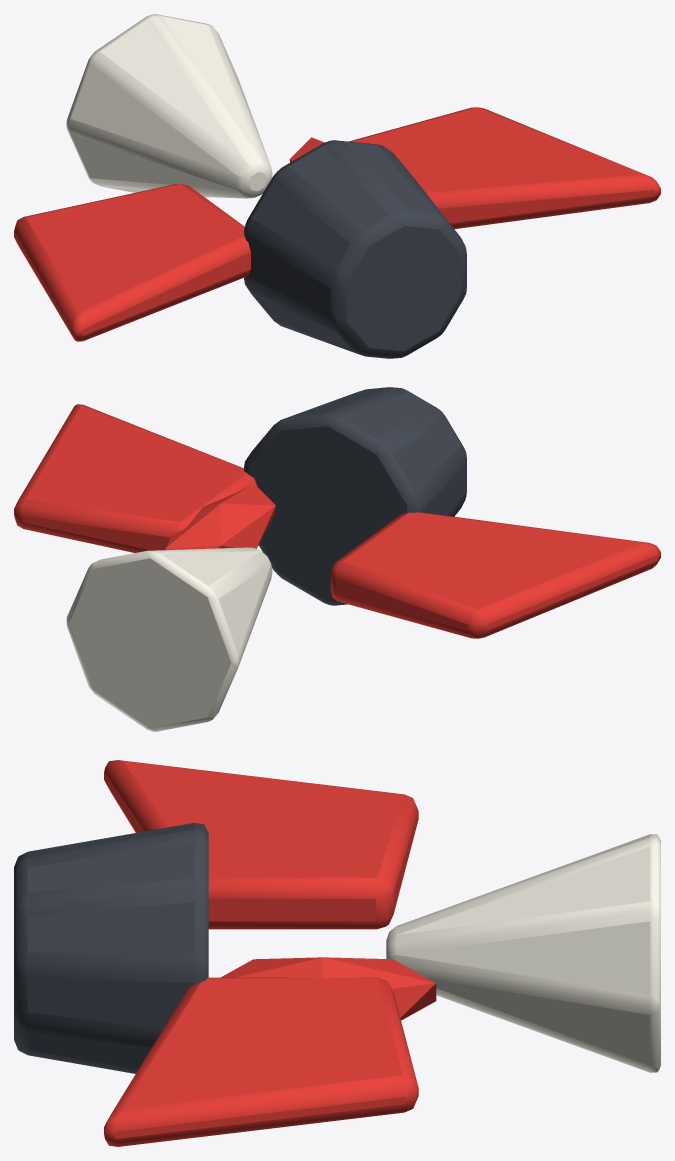
File: RocketCrashDebris.fbx
3 views of the same model, one above another, from view 1: azimuth 30°, elevation 25°; view 2: azimuth 150°, elevation 25°; view 3: azimuth 270°, elevation 25° (orthographic). The views are drawn at different scales.
Parts seen in each view (by area): view 1: EngineChunk, NoseChunk, WingLeftChunk, WingRightChunk; view 2: EngineChunk, NoseChunk, WingLeftChunk, WingRightChunk, BodyShard; view 3: EngineChunk, NoseChunk, WingRightChunk, WingLeftChunk, BodyShard.
Boxes of the visible parts, x1,y1,x2,y2 form: EngineChunk: [244, 140, 466, 358]; NoseChunk: [66, 14, 272, 198]; WingLeftChunk: [14, 184, 250, 341]; WingRightChunk: [349, 107, 660, 229]; EngineChunk: [244, 387, 466, 605]; NoseChunk: [66, 547, 272, 731]; WingLeftChunk: [330, 512, 660, 638]; WingRightChunk: [14, 404, 257, 552]; BodyShard: [165, 484, 275, 549]; EngineChunk: [14, 823, 208, 1073]; NoseChunk: [386, 834, 660, 1072]; WingRightChunk: [104, 977, 418, 1146]; WingLeftChunk: [104, 760, 418, 929]; BodyShard: [221, 957, 436, 1020].
Size of the model in its own units: 1.5 by 0.462 by 1.13.
